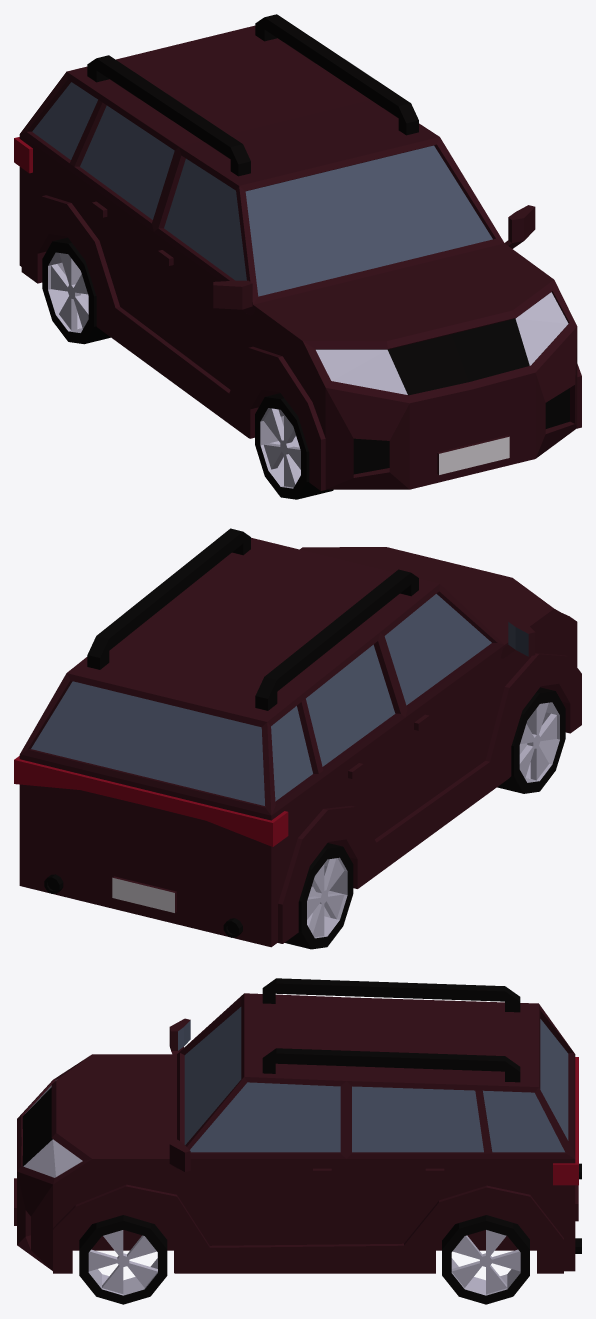
File: SUV.gltf
The picture shows the model from 3 angles, top to bottom: view 1: azimuth 30°, elevation 25°; view 2: azimuth 150°, elevation 25°; view 3: azimuth 270°, elevation 25°; orthographic projection. The views are drawn at different scales.
Bounding box in the file's own units: 563 × 460 × 1008.
